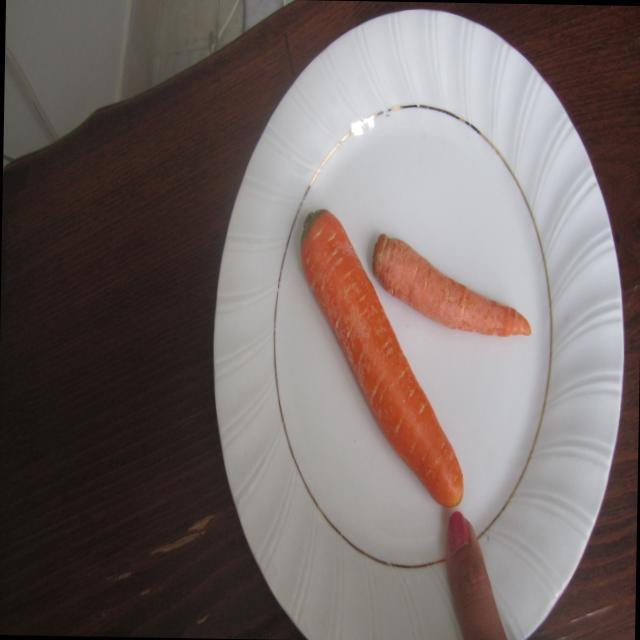Carrot: (287, 200, 468, 520), (359, 235, 544, 339)
Finger: (427, 508, 505, 640)
